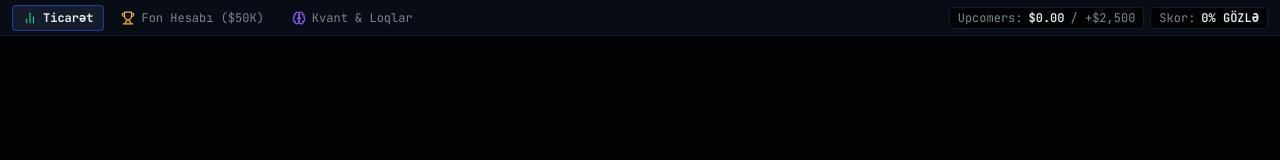
WorkspaceNavBar › renders all 3 workspace tabs, applies active styling, and switches views on click
Expected: the navigation bar with test id "workspace-nav-bar" is shown, x1=0 y1=0 x2=1279 y2=36
Expected: the button with test id "workspace-tab-TRADING" reads "Ticarət", x1=12 y1=4 x2=104 y2=30
Click the button with test id "workspace-tab-PROPFIRM".
click(193, 18)  # box x1=110 y1=4 x2=275 y2=30
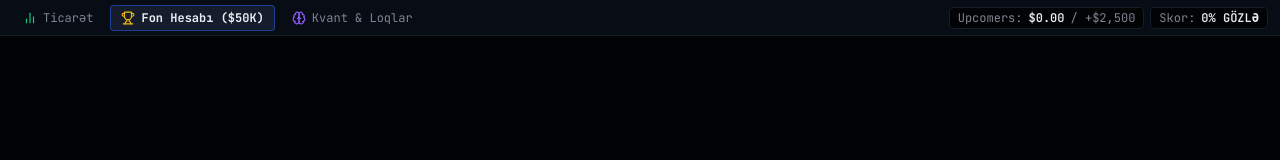
Now the button with test id "workspace-tab-PROPFIRM" is pressed, box x1=110 y1=4 x2=275 y2=30
Now the button with test id "workspace-tab-PROPFIRM" has class "bg-[#151d2c]", box x1=110 y1=4 x2=275 y2=30
Now the button with test id "workspace-tab-TRADING" is not pressed, box x1=12 y1=4 x2=104 y2=30
Click the button with test id "workspace-tab-QUANT".
click(352, 18)  # box x1=281 y1=4 x2=424 y2=30
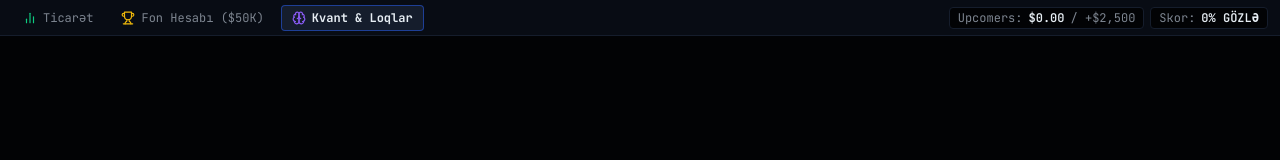
Now the button with test id "workspace-tab-QUANT" is pressed, box x1=281 y1=4 x2=424 y2=30
Now the button with test id "workspace-tab-PROPFIRM" is not pressed, box x1=110 y1=4 x2=275 y2=30
Click the button with test id "workspace-tab-TRADING".
click(58, 18)  # box x1=12 y1=4 x2=104 y2=30
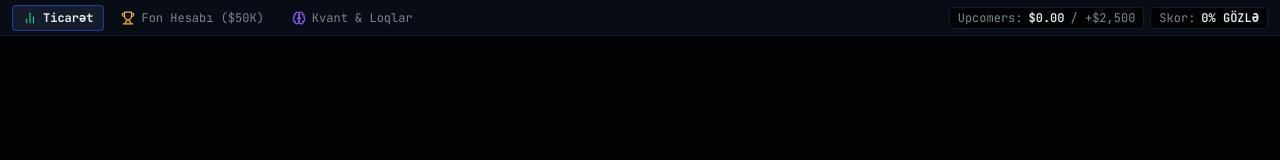
Now the button with test id "workspace-tab-TRADING" is pressed, box x1=12 y1=4 x2=104 y2=30
